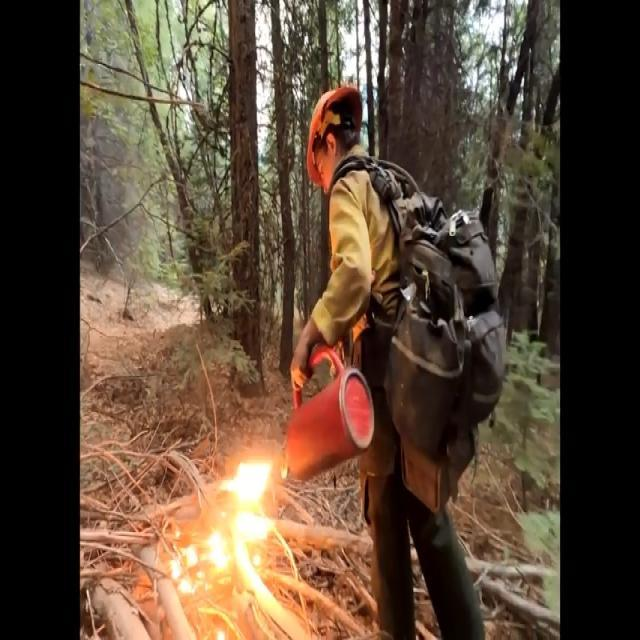Fire: (164, 450, 276, 640)
